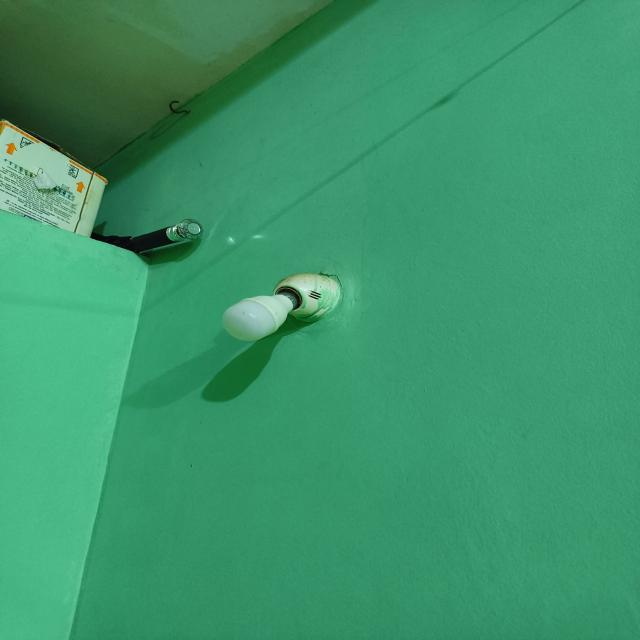bulb_off: (222, 287, 302, 343)
